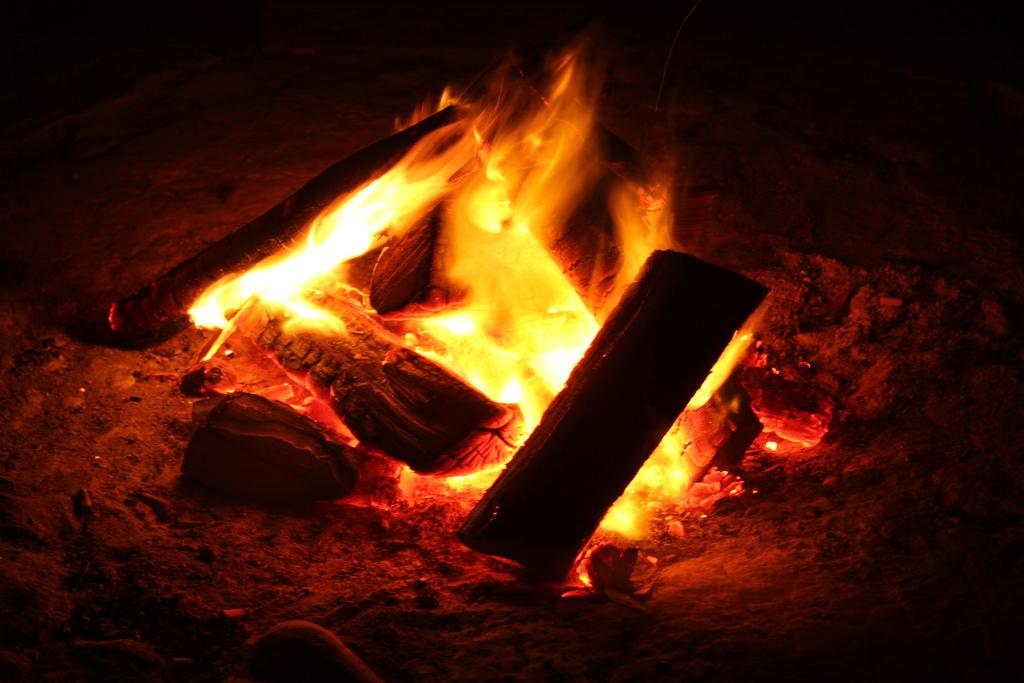fire: (445, 202, 600, 363), (245, 218, 353, 332), (422, 120, 595, 183)
